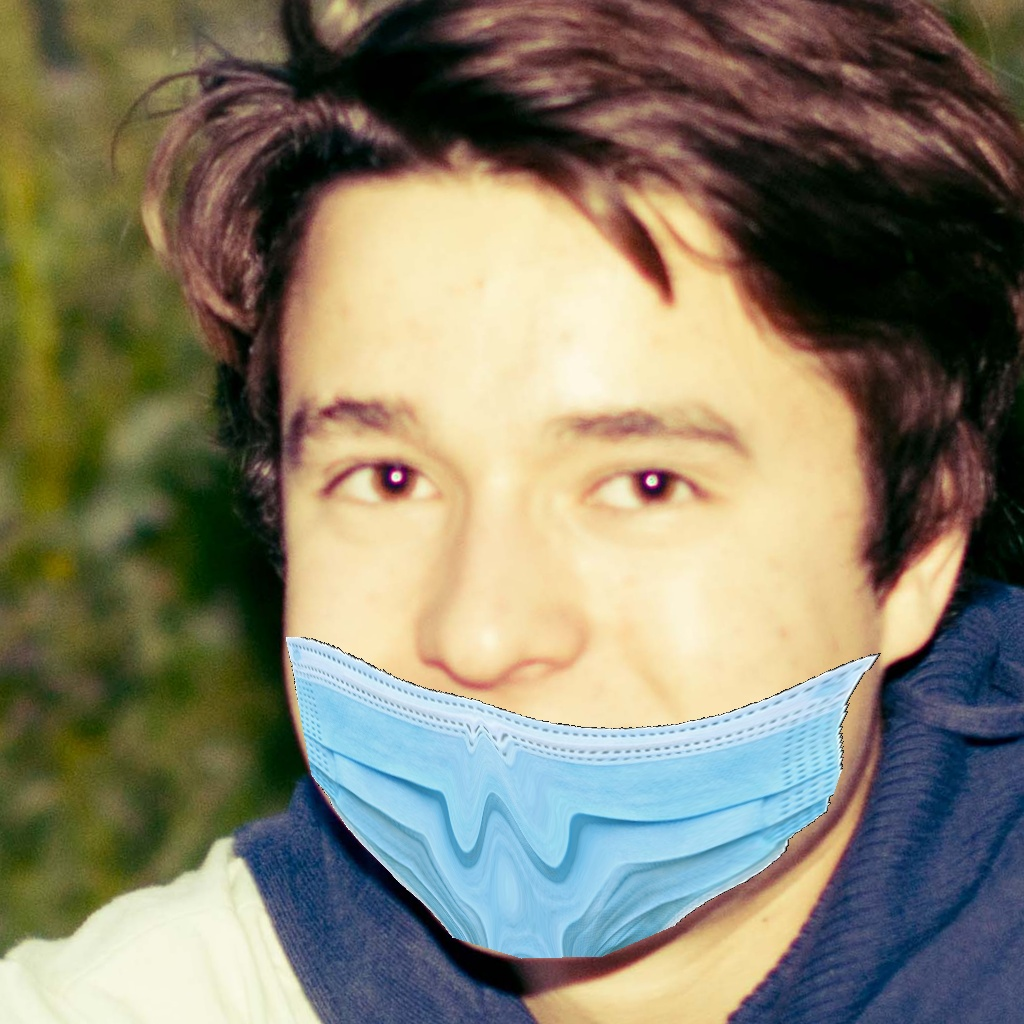mask_weared_incorrect: (271, 399, 849, 975)
